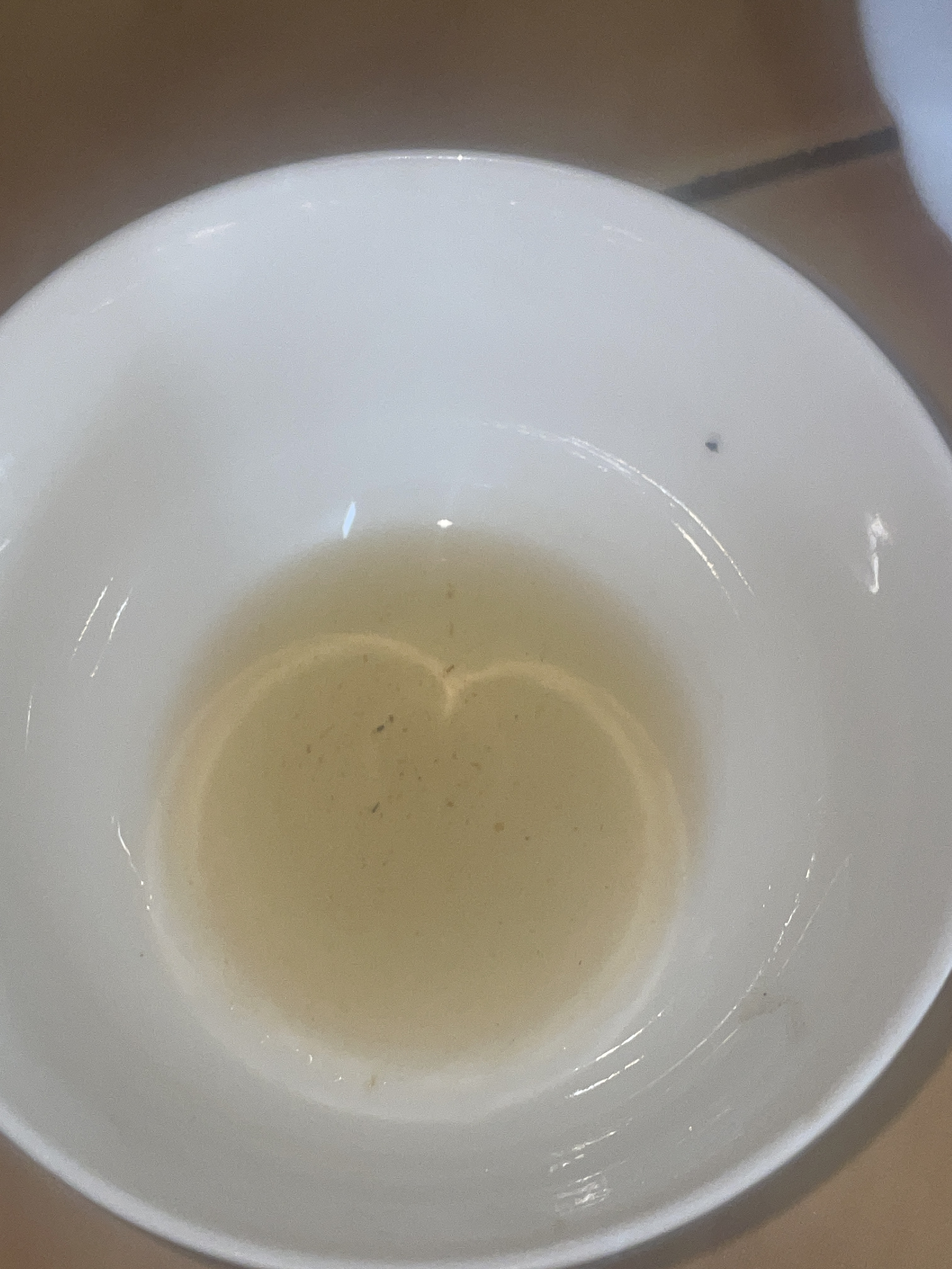reusable: (154, 529, 705, 1058)
